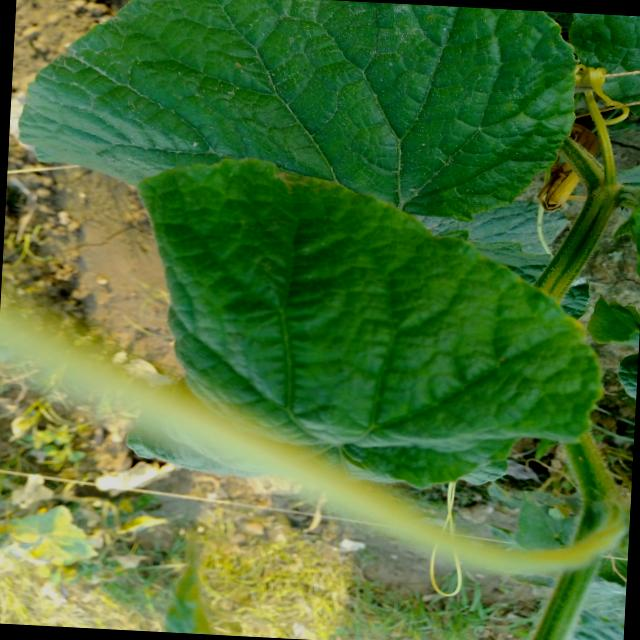cucumber_healthy: (111, 148, 617, 508), (9, 0, 583, 256), (562, 13, 640, 135)
